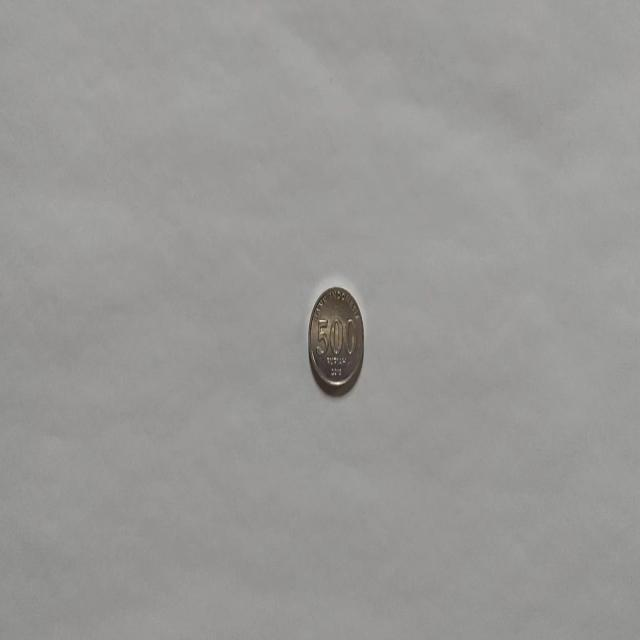lima ratus rupiah: (307, 284, 365, 396)
